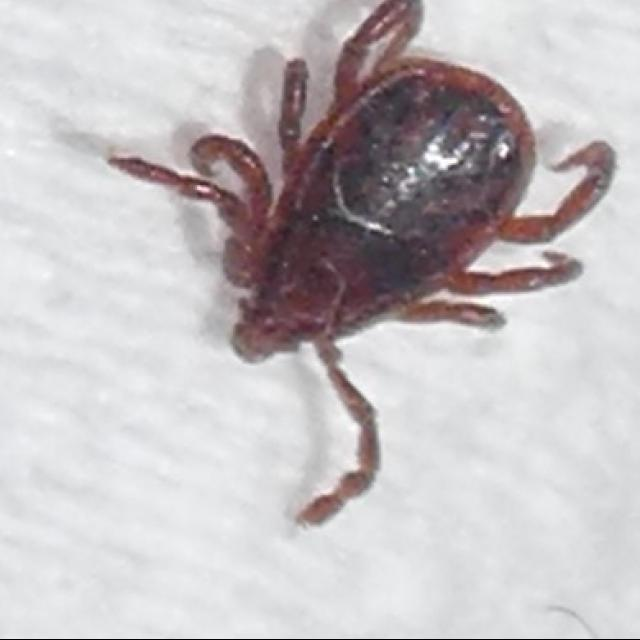Rhipicephalus Sanguineus-M: (107, 0, 615, 531)
